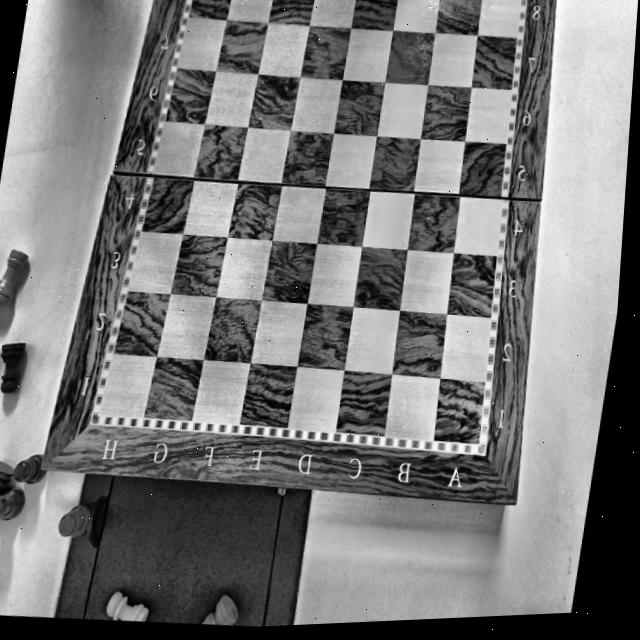chessboard: (42, 0, 554, 504)
